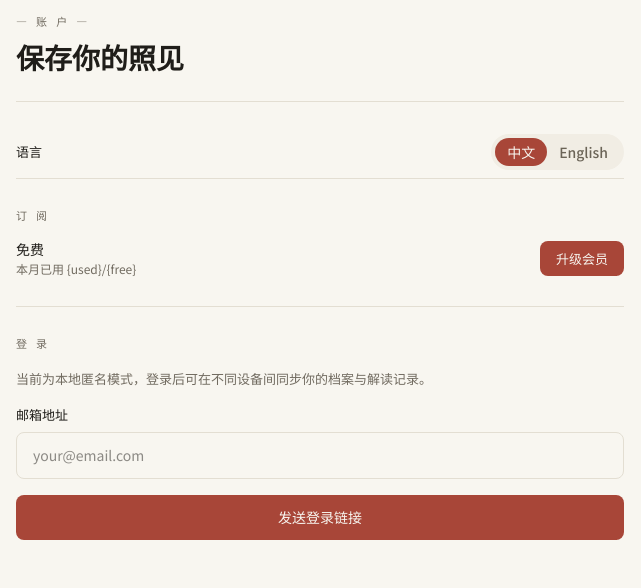
it: EP-account-login：换设备用已注册邮箱登录 › 匿名设备 + upgrade 成功（全新邮箱）→ 不退回 signInWithEmail，不落匿名 token
Type "existing@example.com" into the field labelled "邮箱地址" at (320, 456), box [16, 432, 624, 479]
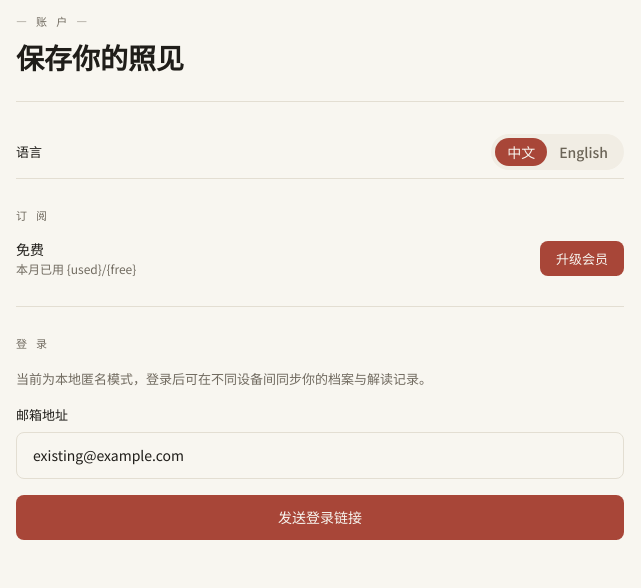
Click the button "发送登录链接" at (320, 518), box [16, 495, 624, 540]
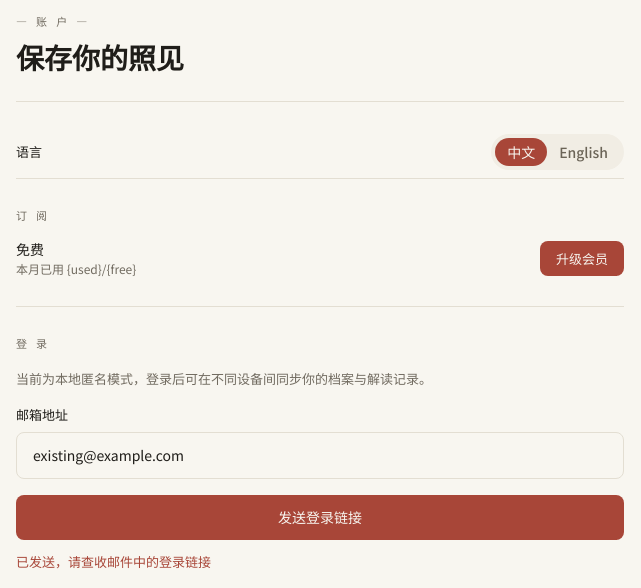
Expected: the text "已发送，请查收邮件中的登录链接" is shown, [16, 552, 211, 571]
